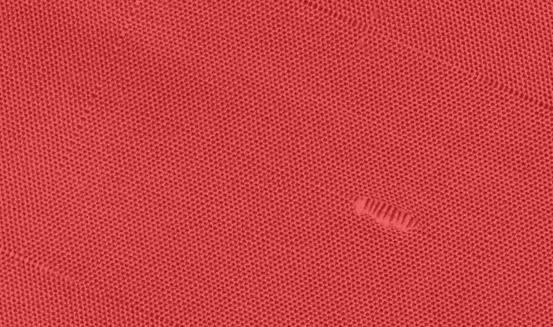slub: (348, 189, 421, 239)
